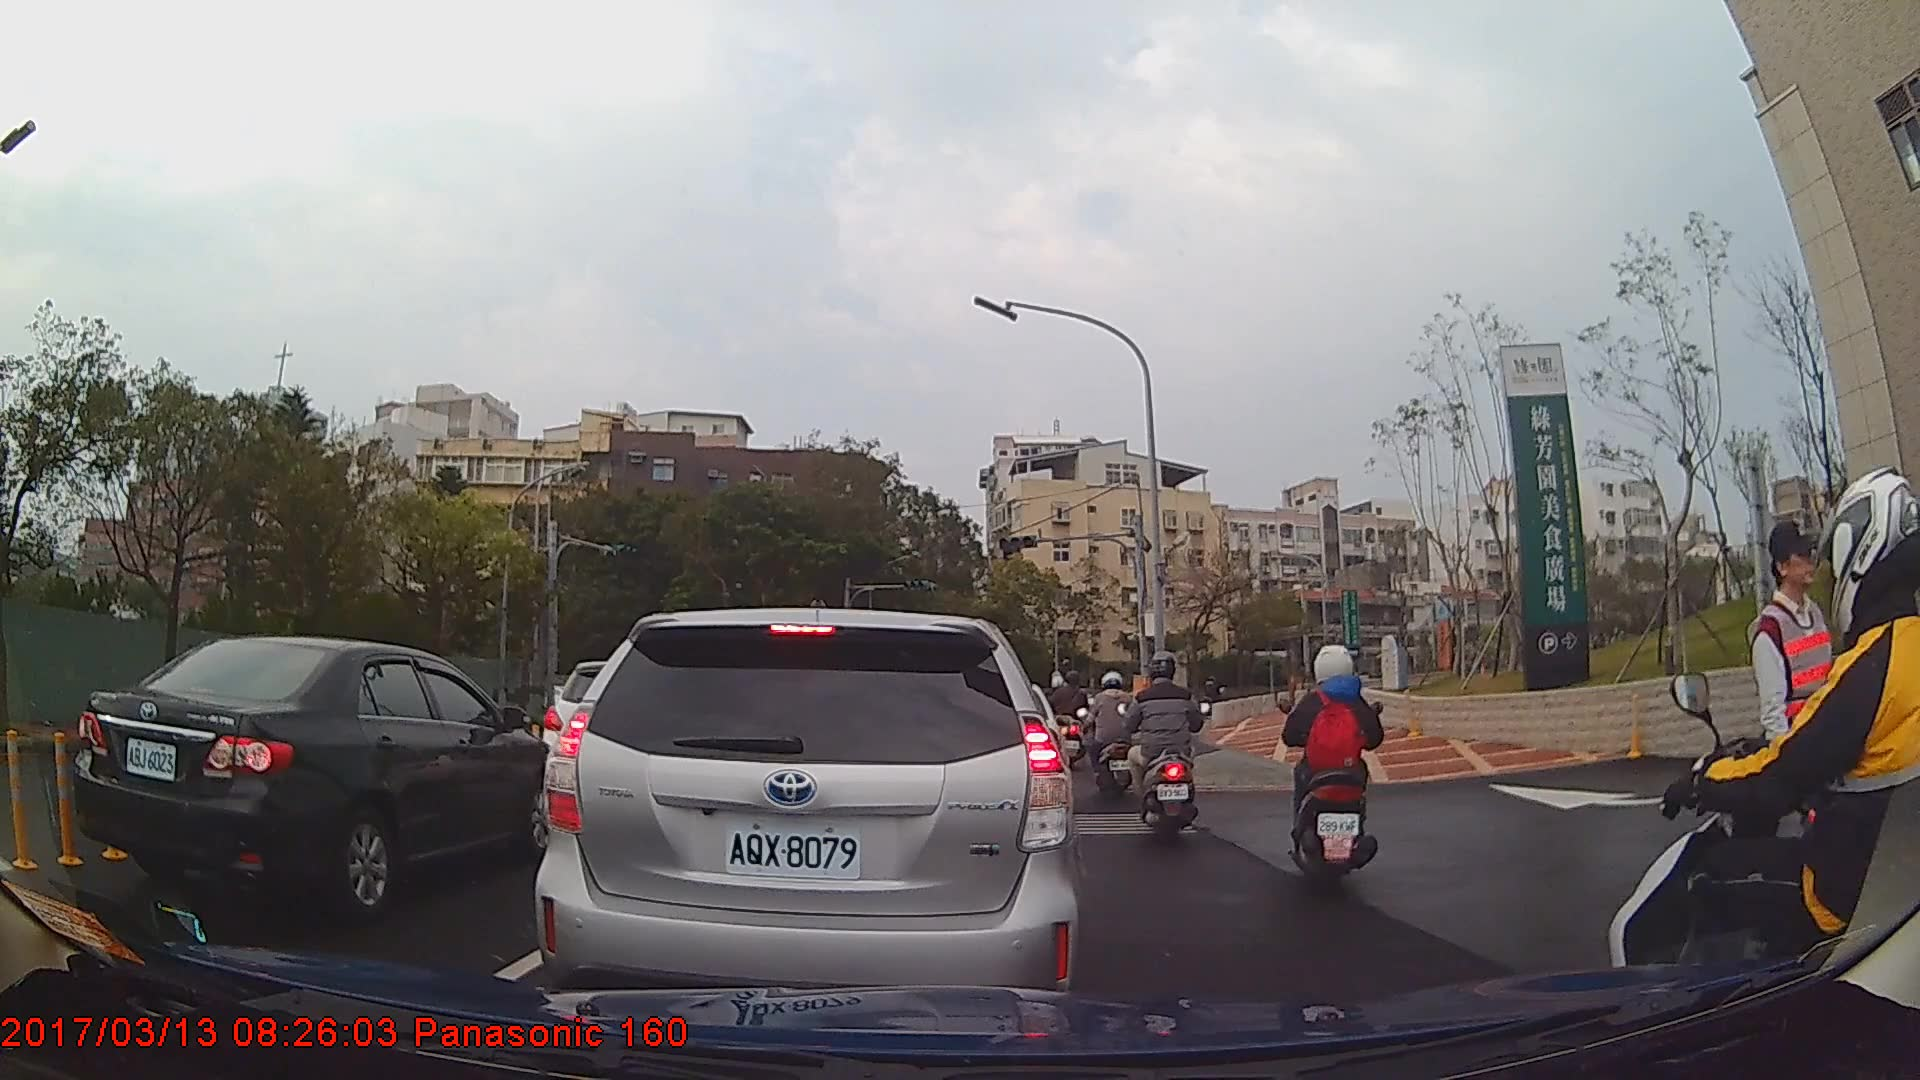rider: (1609, 468, 1920, 1075), (1281, 641, 1390, 890), (1127, 645, 1213, 847), (1087, 669, 1145, 798), (1053, 665, 1090, 772)
vehicle: (536, 604, 1085, 1017), (74, 633, 567, 920)
